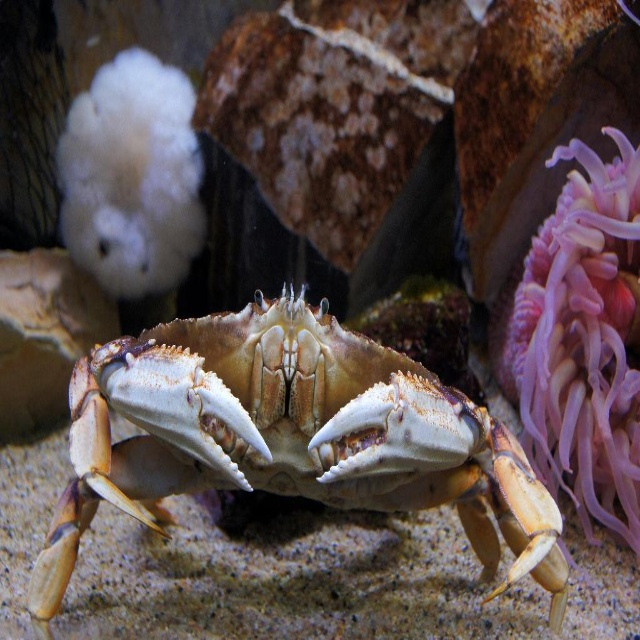Crab: (23, 277, 572, 639)
